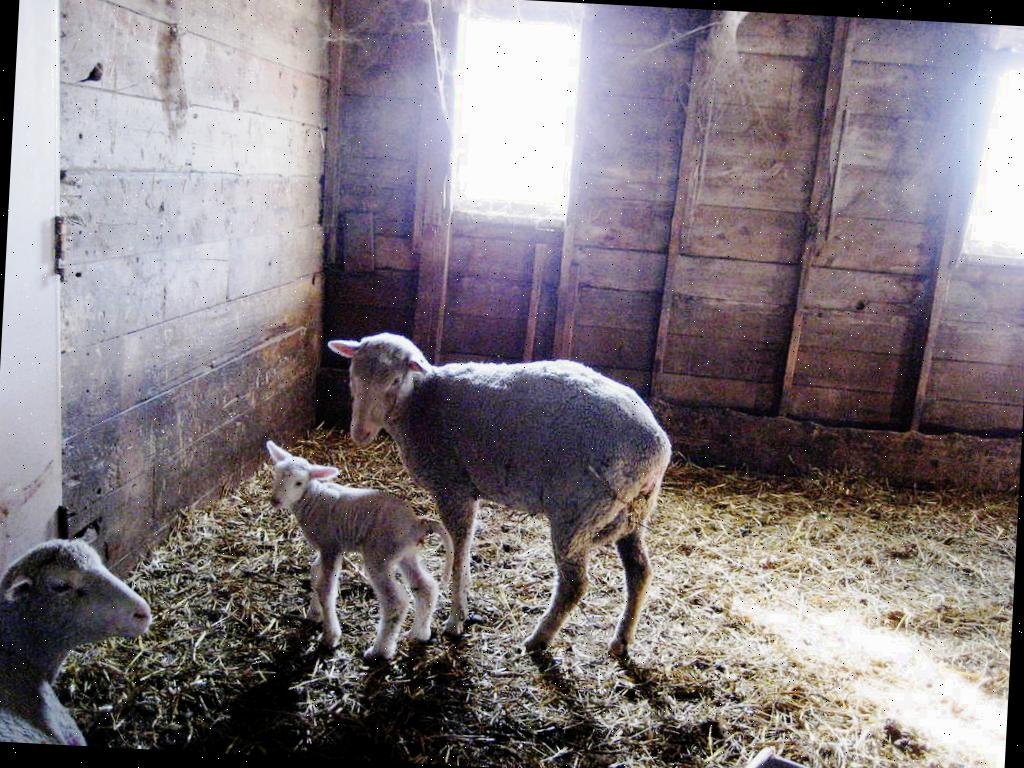Sheep: (310, 328, 676, 660), (254, 441, 458, 664), (0, 533, 157, 748)
